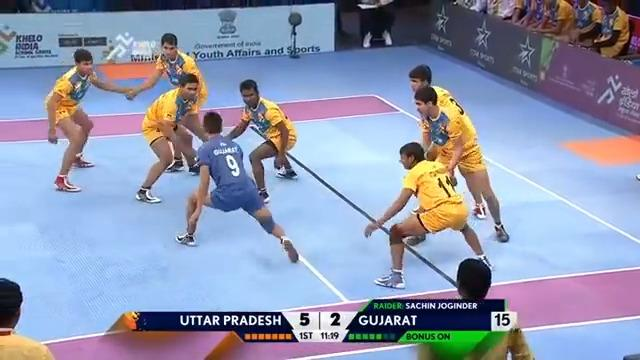Player: (363, 141, 494, 289), (407, 63, 509, 243), (44, 47, 133, 192), (125, 32, 208, 173), (223, 78, 298, 203), (134, 72, 200, 204), (0, 277, 55, 359)
Raider: (174, 110, 299, 263)
referee: (355, 0, 395, 48)
